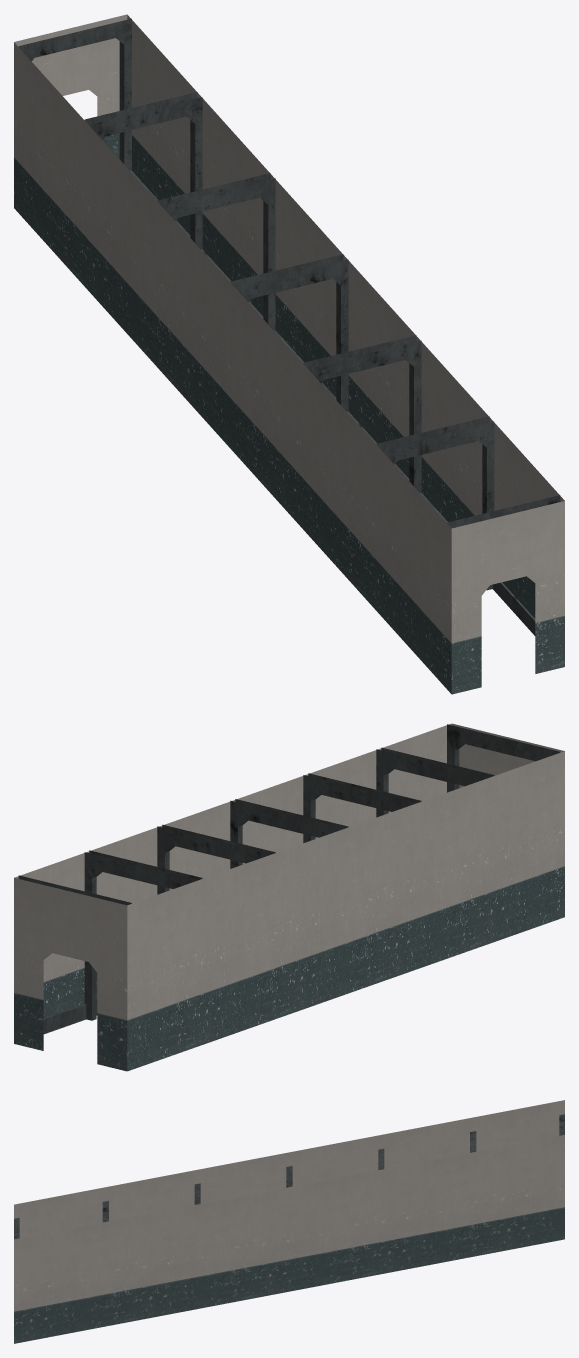
Rendered from TR_Wall03.FBX.
The picture shows the model from 3 angles, top to bottom: view 1: azimuth 30°, elevation 25°; view 2: azimuth 150°, elevation 25°; view 3: azimuth 270°, elevation 25°; orthographic projection. The views are drawn at different scales.
Visible parts, largest first — view 1: TR_Wall03; view 2: TR_Wall03; view 3: TR_Wall03.
Part boxes in pixels (left/top/right/bottom): TR_Wall03: left=14, top=14, right=564, bottom=694; TR_Wall03: left=14, top=723, right=564, bottom=1071; TR_Wall03: left=14, top=1100, right=564, bottom=1343.
Size of the model in its own units: 264 by 739 by 1764.
